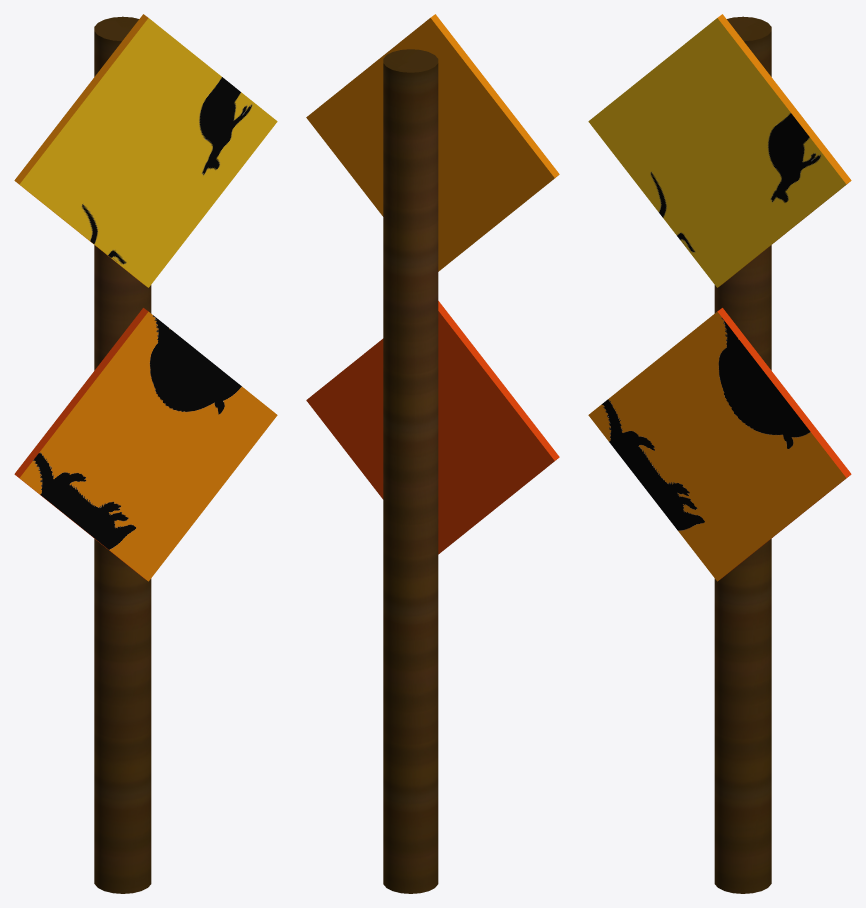
The model's file is Roadsign.FBX.
3 views of the same model, side by side, from view 1: azimuth 30°, elevation 25°; view 2: azimuth 150°, elevation 25°; view 3: azimuth 330°, elevation 25° (orthographic). The views are drawn at different scales.
Parts seen in each view (by area): view 1: Box002, Box001, Cylinder001; view 2: Cylinder001, Box002, Box001; view 3: Box002, Box001, Cylinder001.
Boxes of the visible parts, box(x1,y1,x2,y2) form: Box002: box(14, 14, 277, 287); Box001: box(14, 308, 277, 581); Cylinder001: box(94, 16, 151, 893); Cylinder001: box(383, 49, 438, 893); Box002: box(306, 14, 559, 271); Box001: box(306, 301, 559, 554); Box002: box(588, 14, 851, 287); Box001: box(588, 308, 851, 581); Cylinder001: box(714, 16, 771, 893).
Size of the model in its own units: 11.14 by 36.38 by 2.99.
5 materials, 3 textured.
